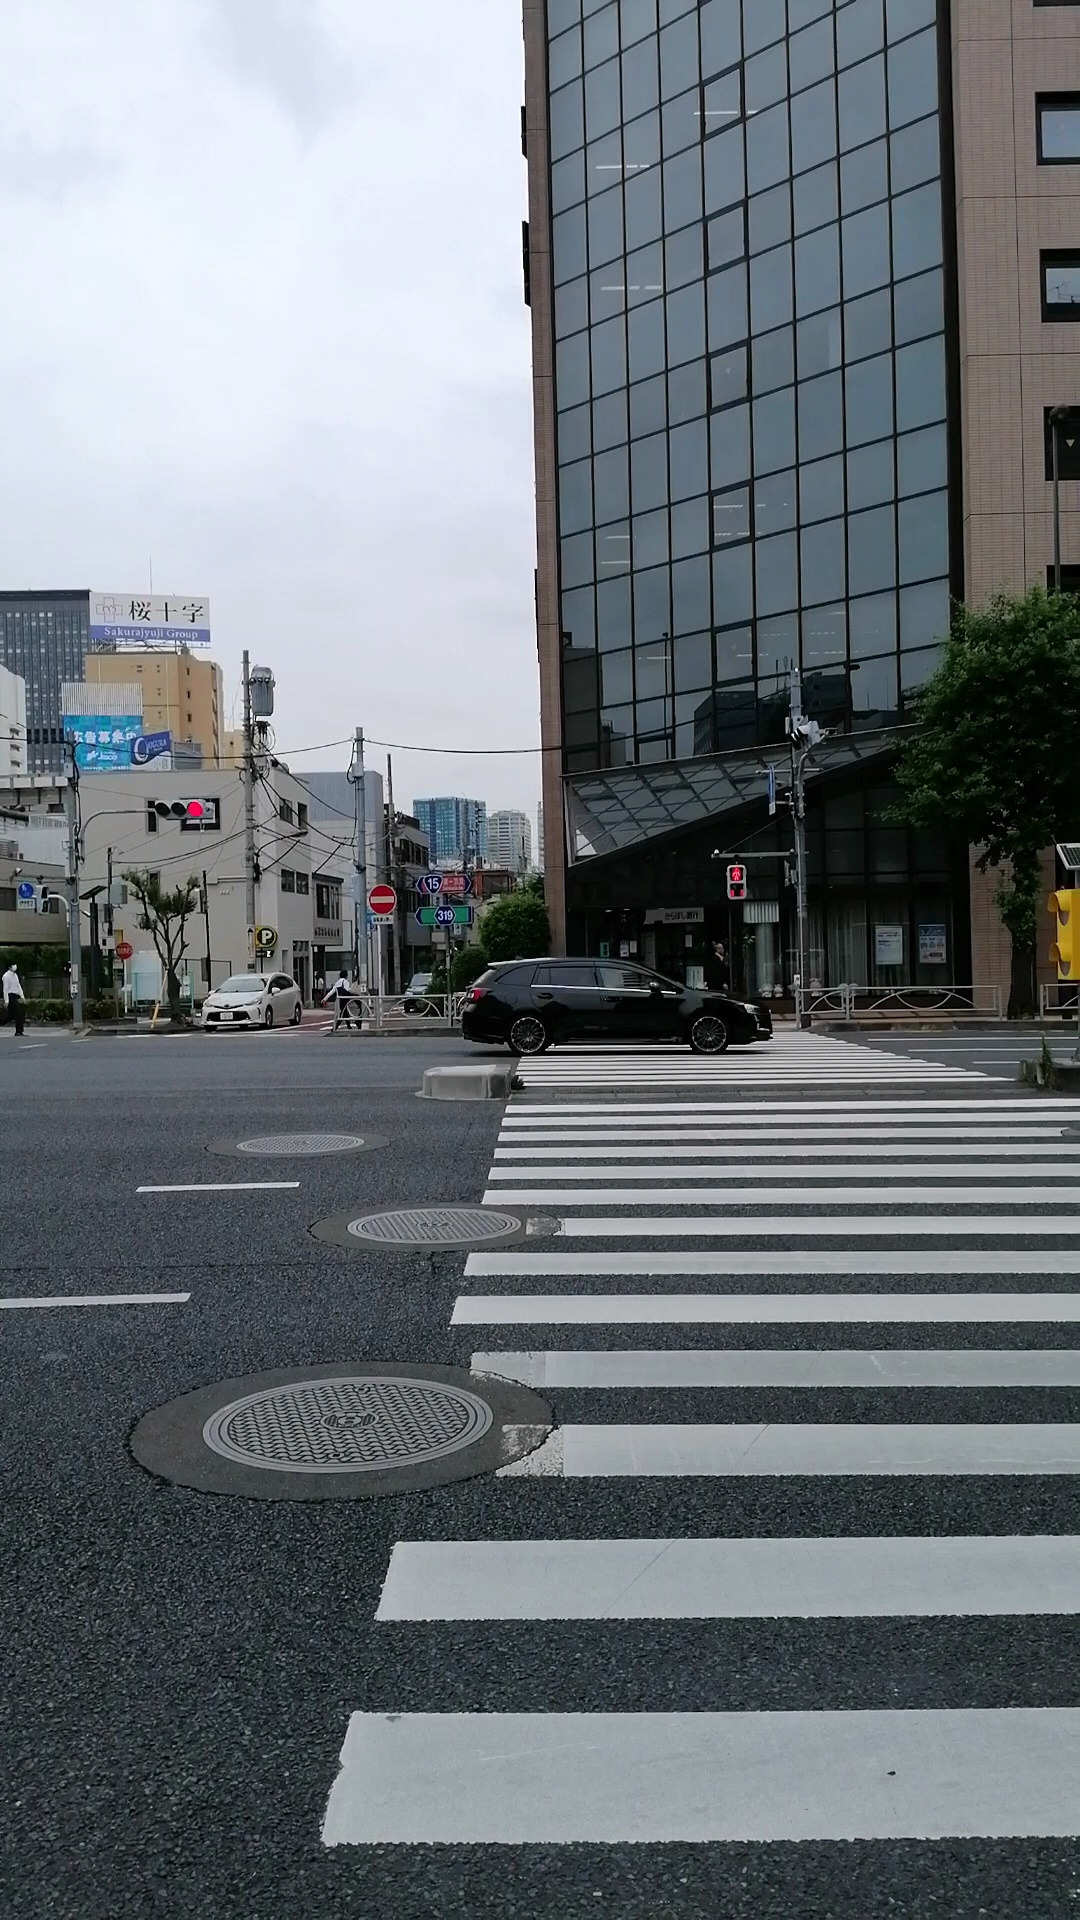red: (724, 862, 746, 901)
